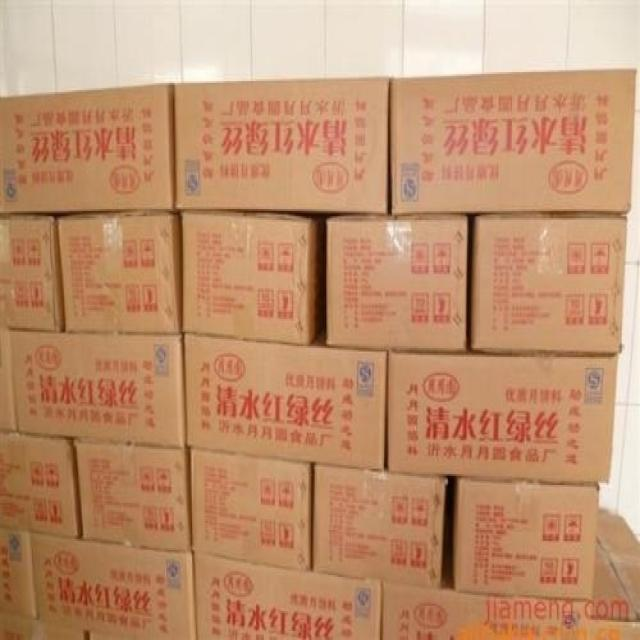box: (391, 68, 636, 216), (386, 349, 620, 480), (173, 79, 392, 214), (184, 329, 388, 471), (0, 83, 176, 213), (469, 214, 628, 354), (9, 328, 185, 447), (324, 213, 468, 356), (182, 213, 327, 345), (447, 476, 597, 598), (29, 530, 195, 638), (192, 550, 382, 638), (57, 209, 182, 335), (381, 563, 591, 638), (313, 465, 446, 583), (192, 444, 314, 570), (74, 437, 192, 548), (1, 429, 80, 538), (0, 214, 64, 330), (0, 524, 36, 616), (0, 606, 85, 637), (0, 328, 21, 432), (85, 632, 102, 638)
